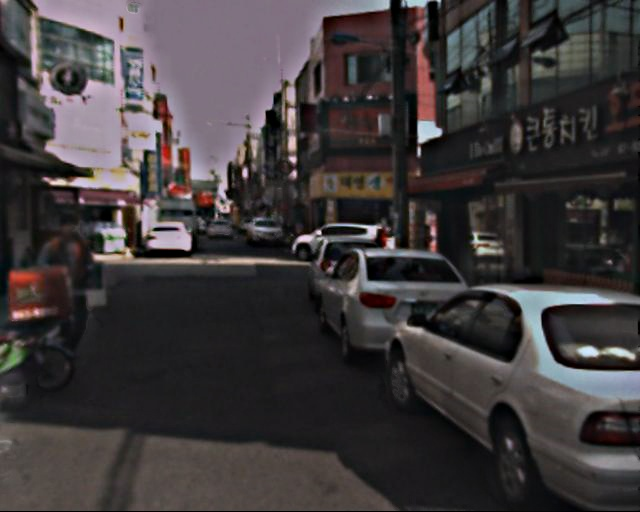person: (417, 226, 436, 272), (375, 226, 391, 266)
